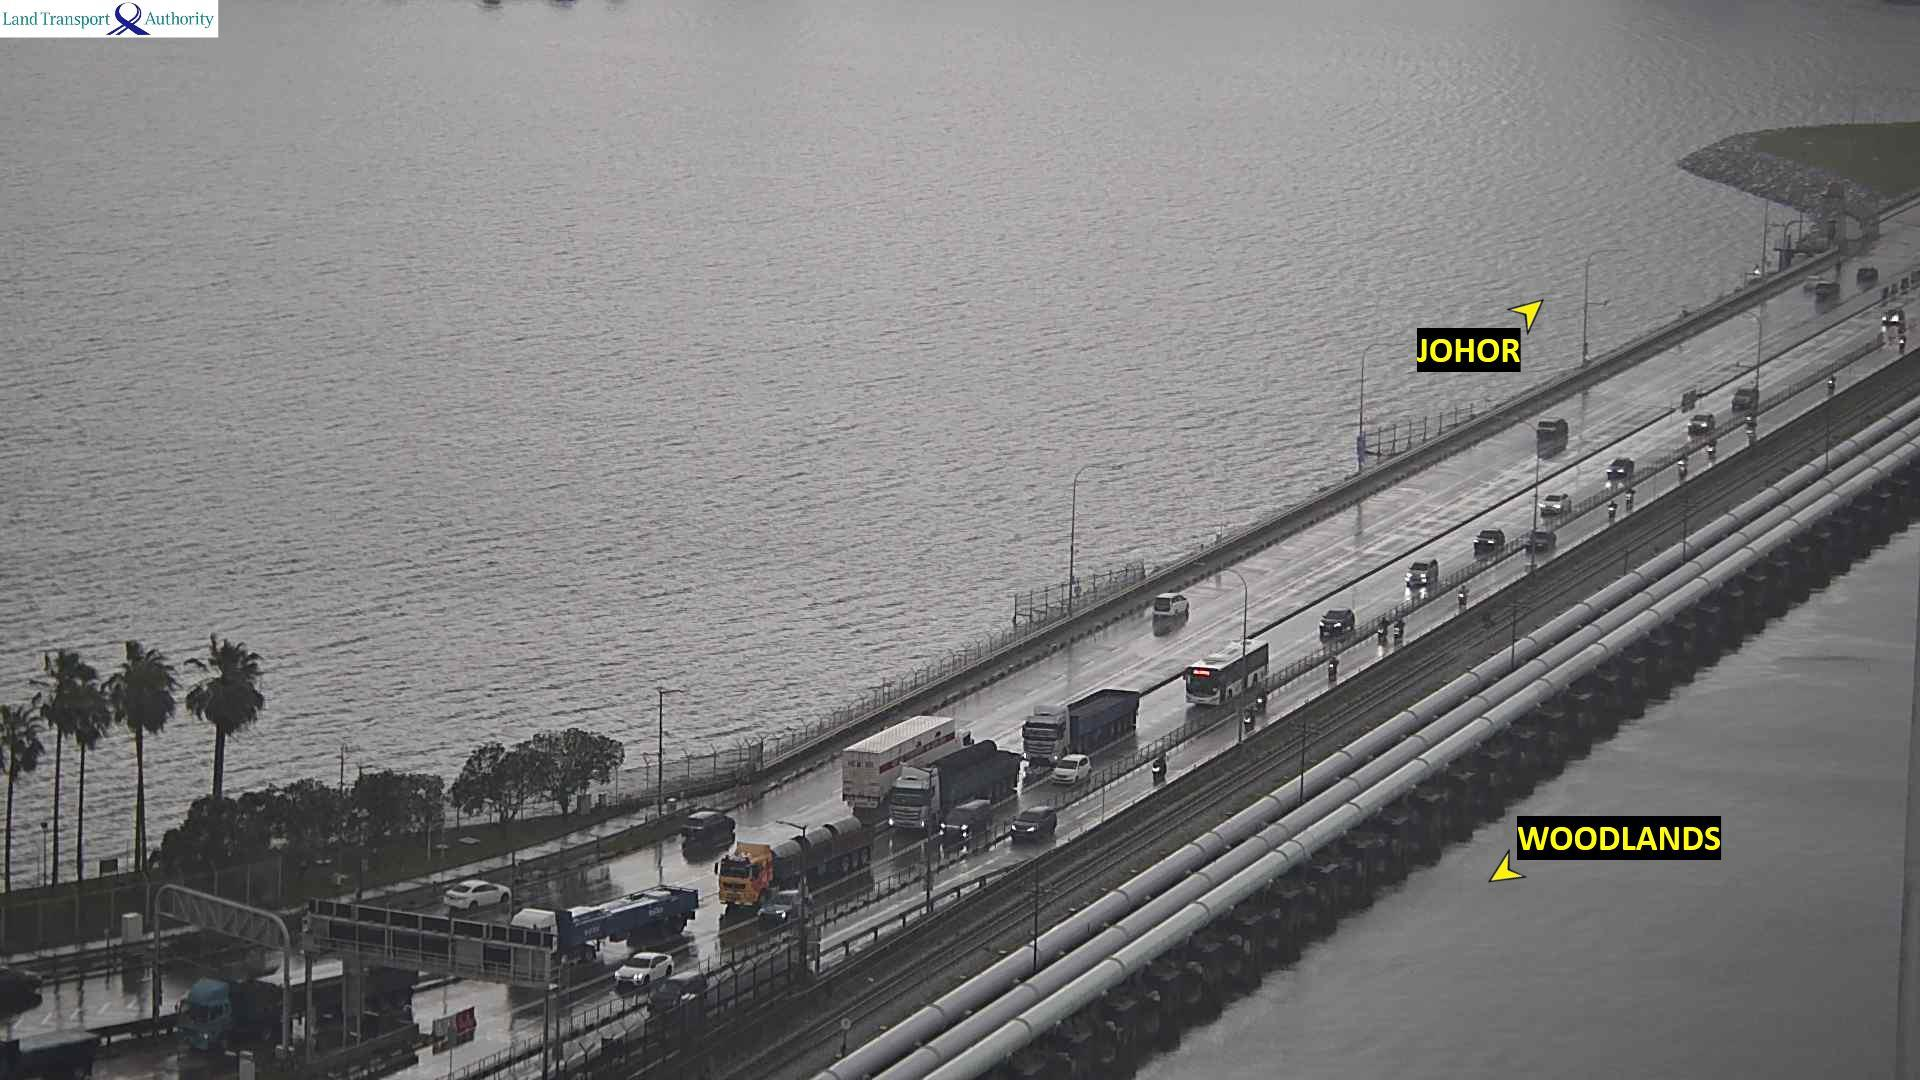vehicle-causeway-johor: (841, 721, 973, 805), (444, 886, 512, 917), (679, 812, 734, 840), (1536, 417, 1572, 453), (1153, 592, 1186, 614), (1811, 278, 1840, 302), (1860, 266, 1882, 288)
vehicle-causeway-singapore: (185, 962, 411, 1034), (552, 893, 696, 979), (720, 819, 867, 903), (891, 740, 1018, 828), (1021, 689, 1140, 765), (1187, 640, 1268, 702), (758, 887, 816, 922), (618, 949, 672, 983), (943, 803, 984, 838), (1017, 807, 1055, 840), (1321, 606, 1356, 634), (1053, 755, 1089, 781), (1475, 526, 1502, 557), (1407, 556, 1432, 586), (1525, 526, 1556, 548), (1541, 489, 1571, 511), (1733, 384, 1758, 410), (1688, 409, 1712, 433), (1607, 459, 1631, 482), (1151, 756, 1166, 787), (1881, 307, 1904, 326), (1455, 584, 1471, 611), (1242, 705, 1257, 733), (1326, 655, 1341, 679), (1676, 453, 1689, 475), (1893, 334, 1906, 354), (1393, 621, 1405, 642), (1377, 619, 1387, 639), (1826, 372, 1837, 390), (1747, 413, 1758, 429), (1626, 489, 1634, 507), (1608, 502, 1615, 519)
